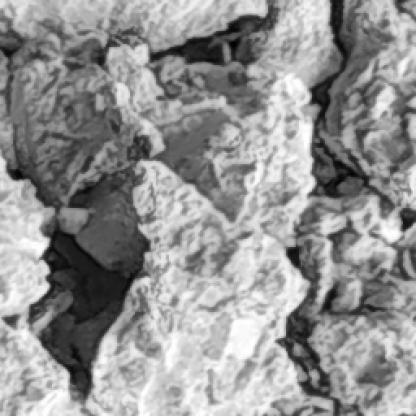cementitious_debris: (3, 1, 414, 413)
